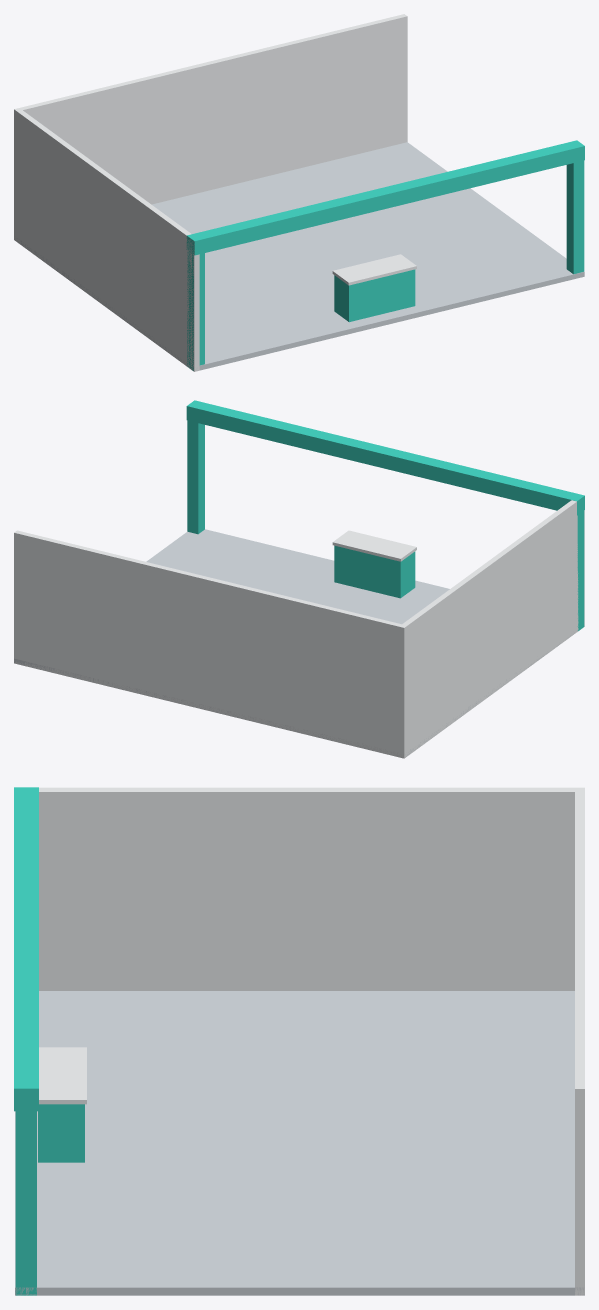
3 renders of one model, top to bottom at view 1: azimuth 30°, elevation 25°; view 2: azimuth 150°, elevation 25°; view 3: azimuth 270°, elevation 25°, orthographic. The views are drawn at different scales.
Visible parts, largest first — view 1: Exhibition Booth Concept; view 2: Exhibition Booth Concept; view 3: Exhibition Booth Concept.
Part boxes in pixels (x1,y1,x2,y2): Exhibition Booth Concept: (14, 14, 584, 371); Exhibition Booth Concept: (14, 400, 584, 758); Exhibition Booth Concept: (14, 787, 584, 1295).
Bounding box in the file's own units: 10 × 3.2 × 8.01.
